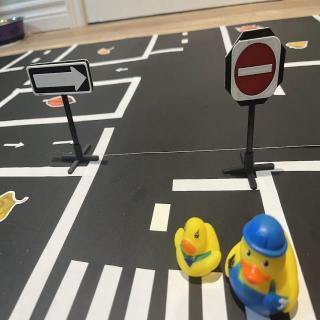duck_regular: (175, 219, 223, 279)
duck_specialty: (224, 215, 302, 320)
road_crosswalk: (42, 256, 232, 320)
road_oneway: (52, 139, 77, 150), (3, 140, 26, 150), (116, 66, 131, 73)
sign_noentry: (233, 36, 283, 102)
sign_oneway_right: (27, 59, 95, 97)
